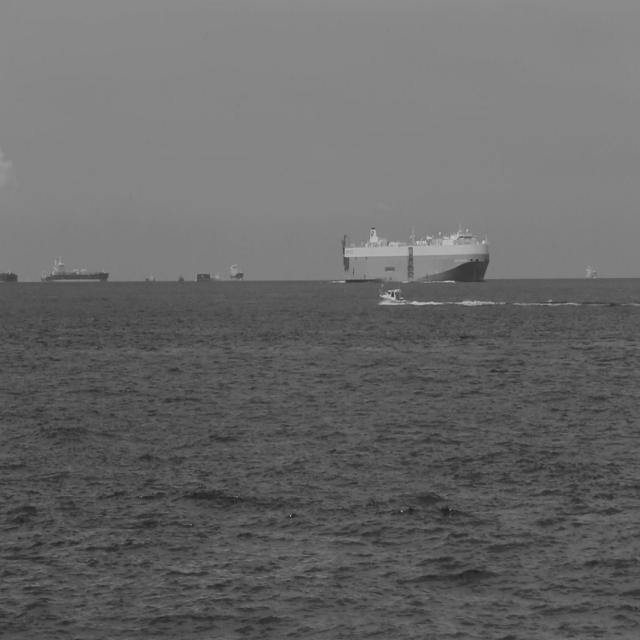ship: (341, 223, 490, 286), (50, 252, 110, 284), (378, 280, 408, 306), (0, 265, 20, 283), (228, 260, 244, 282), (196, 270, 212, 282), (40, 268, 50, 284), (178, 274, 185, 282)
